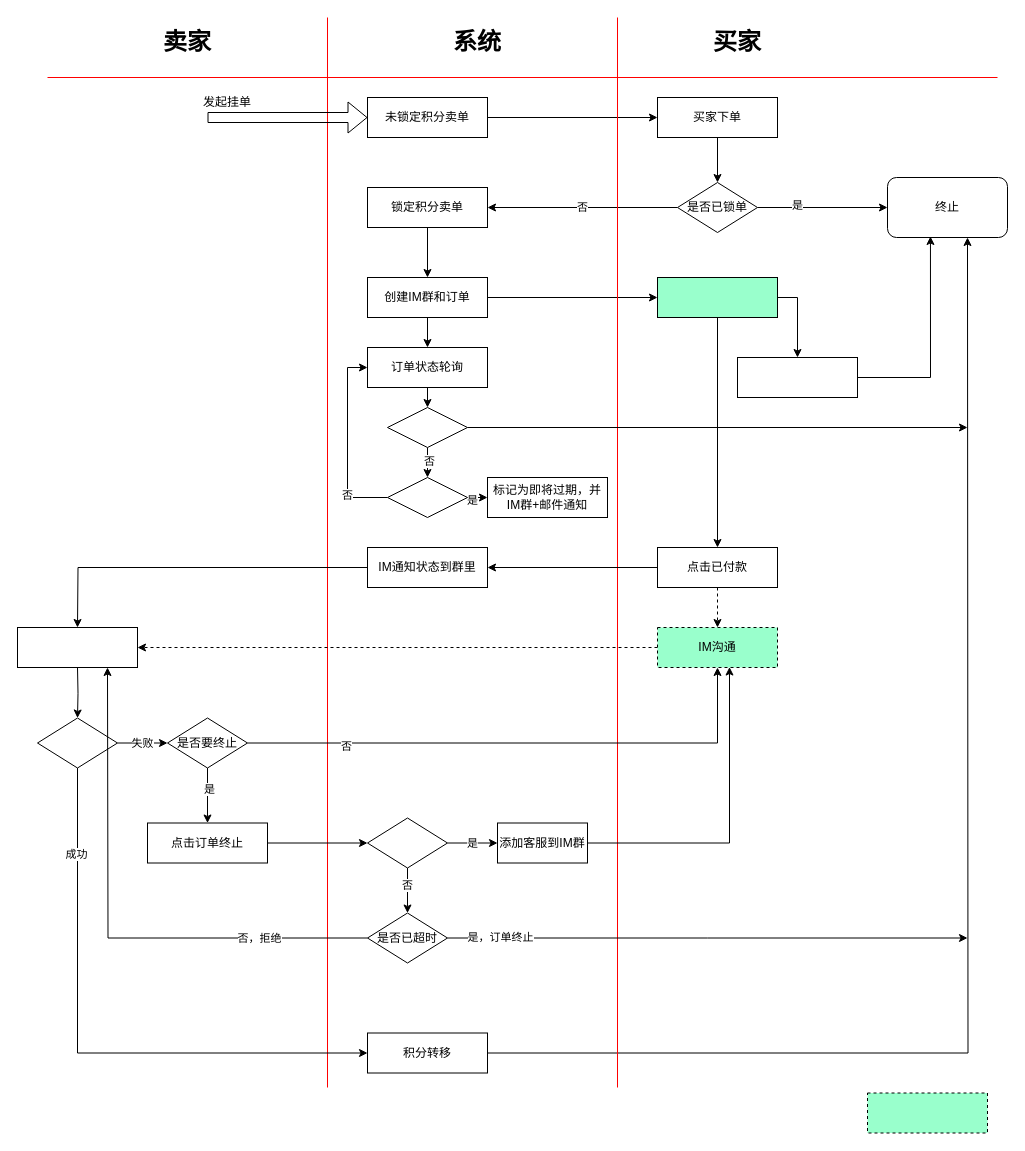
Image size: 1025x1151. Some labels were removed from this diagram. The box of each missing label's shape, as (x1, y1, x2, y2) in pixels:
买家付款: (656, 276, 778, 318)
外部系统: (866, 1092, 988, 1133)
收款确认: (36, 717, 118, 768)
是否已付款: (366, 817, 448, 868)
是否标记为即将过期: (386, 406, 468, 448)
是否超时 且未付款: (386, 476, 468, 518)
点击取消付款: (736, 356, 858, 398)
等待确认收款: (16, 626, 138, 668)
